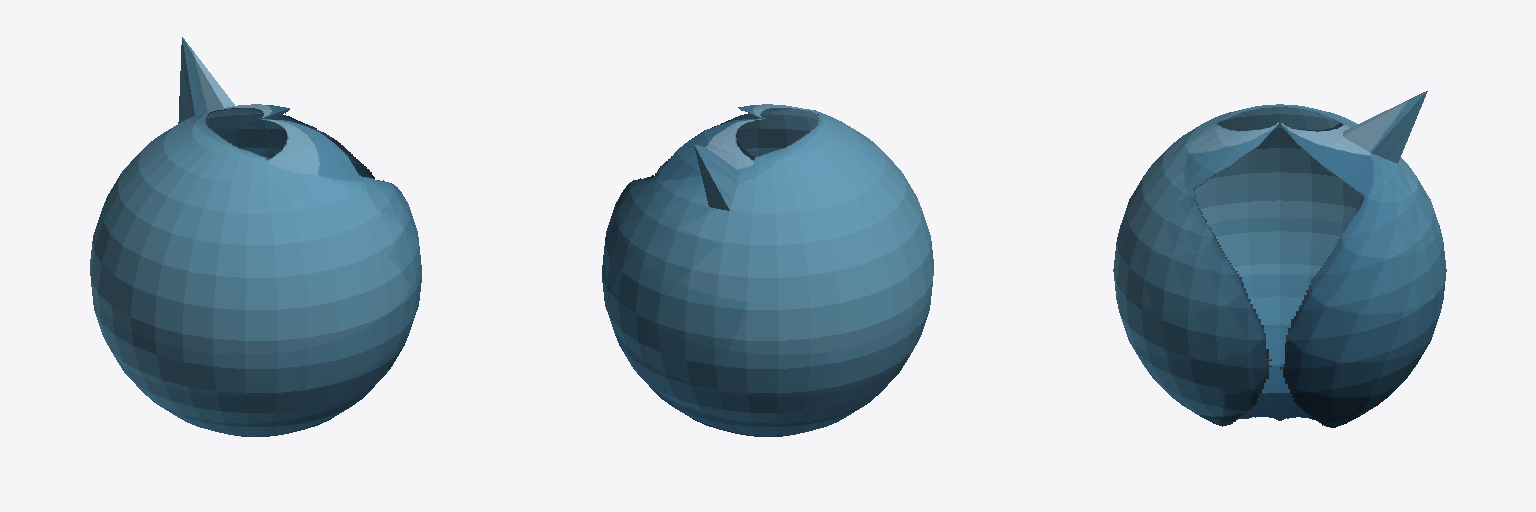
The picture shows the model from 3 angles: view 1: azimuth 30°, elevation 25°; view 2: azimuth 150°, elevation 25°; view 3: azimuth 270°, elevation 25°; orthographic projection.
Parts seen in each view (by area): view 1: 球; view 2: 球; view 3: 球.
Boxes of the visible parts, x1=… form: 球: x1=90, y1=37, x2=421, y2=436; 球: x1=602, y1=104, x2=933, y2=436; 球: x1=1113, y1=91, x2=1446, y2=427.
Size of the model in its own units: 2 by 2.2 by 2.
Materials: 1 (1 with a texture image).